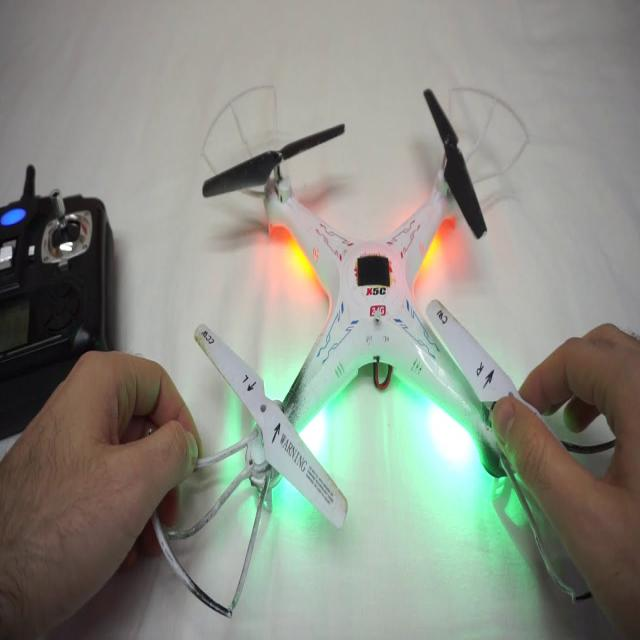drone: (168, 71, 538, 640)
